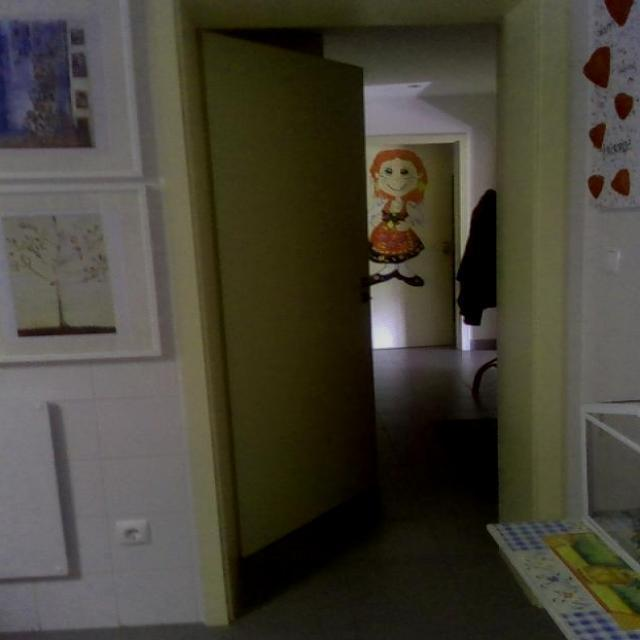door: (195, 28, 377, 560)
